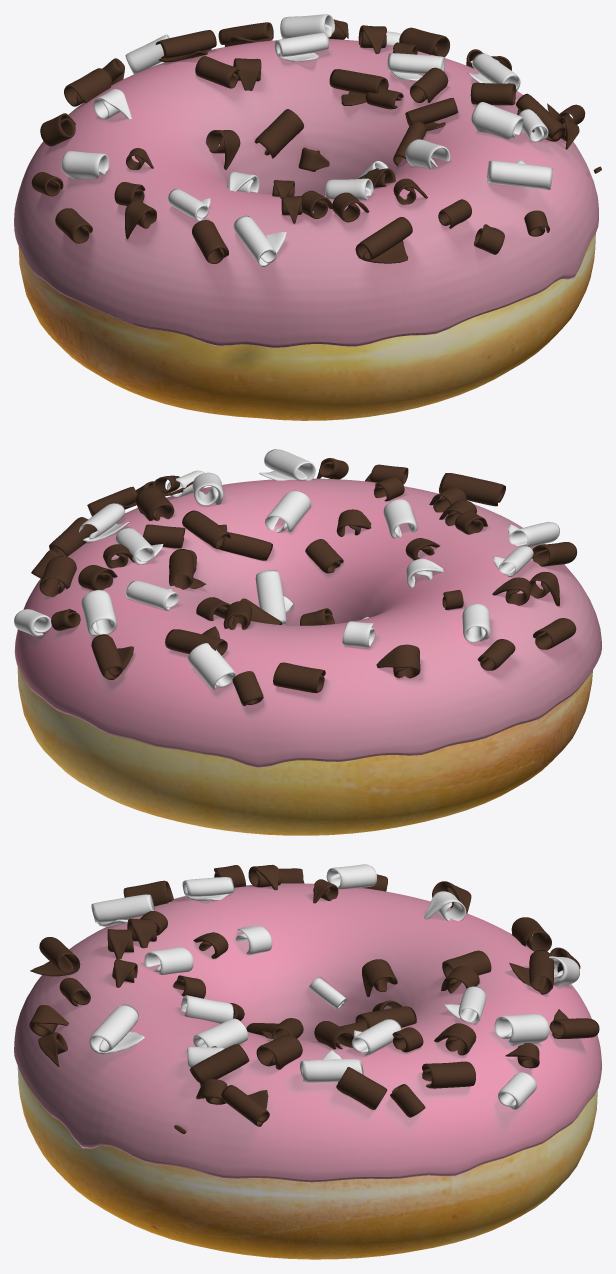
The model's file is strawberry two in one curls.glb.
3 views of the same model, one above another, from view 1: azimuth 30°, elevation 25°; view 2: azimuth 150°, elevation 25°; view 3: azimuth 270°, elevation 25° (orthographic). The views are drawn at different scales.
Visible parts, largest first — view 1: coffee.001, strawberry, two in one curls, Torus; view 2: strawberry, coffee.001, two in one curls, Torus; view 3: strawberry, coffee.001, two in one curls, Torus.
Part boxes in pixels (box(x1,y1,x2,y2)): coffee.001: box(14, 39, 598, 347); strawberry: box(14, 39, 598, 348); two in one curls: box(31, 14, 601, 267); Torus: box(18, 233, 595, 420); strawberry: box(15, 479, 591, 767); coffee.001: box(14, 478, 601, 767); two in one curls: box(14, 449, 577, 705); Torus: box(17, 666, 592, 835); strawberry: box(31, 883, 601, 1182); coffee.001: box(14, 883, 601, 1182); two in one curls: box(29, 864, 599, 1133); Torus: box(17, 1066, 597, 1259).
Bounding box in the file's own units: 0.1989 × 0.0804 × 0.1972.
Materials: 5 (2 with a texture image).
